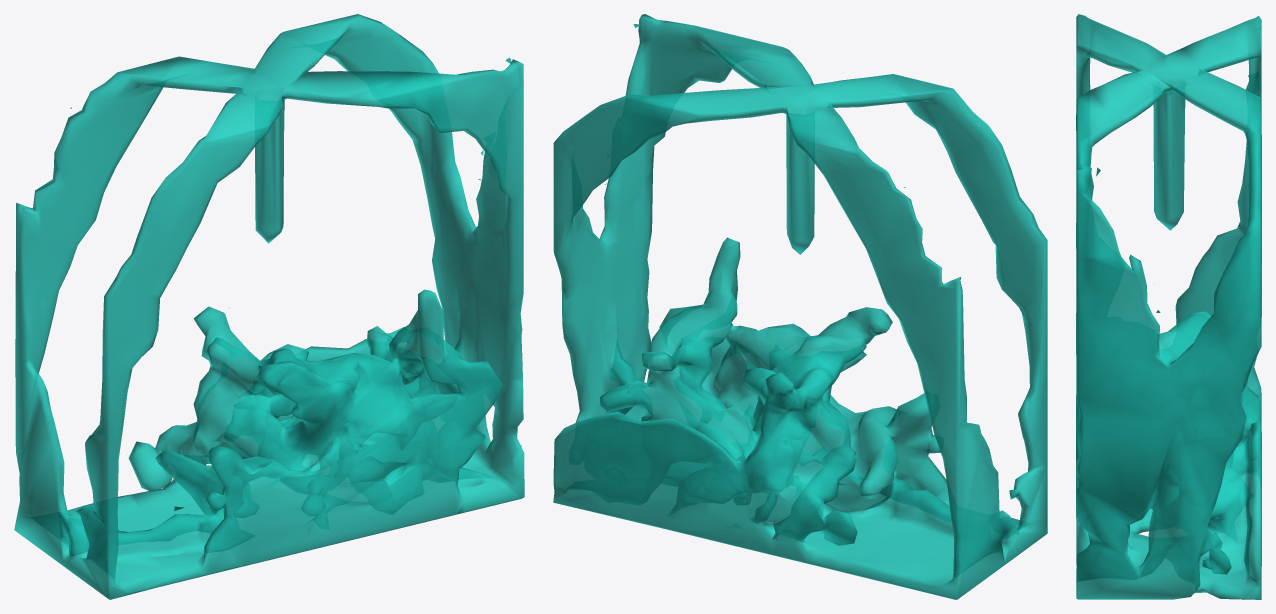
3 renders of one model, left to right at view 1: azimuth 30°, elevation 25°; view 2: azimuth 150°, elevation 25°; view 3: azimuth 270°, elevation 25°, orthographic. The views are drawn at different scales.
Visible parts, largest first — view 1: Liquid_Domain; view 2: Liquid_Domain; view 3: Liquid_Domain.
Part boxes in pixels (x1,y1,x2,y2): Liquid_Domain: (14, 14, 524, 599); Liquid_Domain: (553, 14, 1047, 599); Liquid_Domain: (1076, 14, 1261, 599).
Size of the model in its own units: 885 by 884 by 345.
